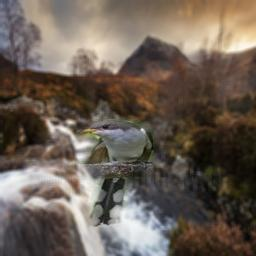Cuckoo: (76, 119, 154, 227)
